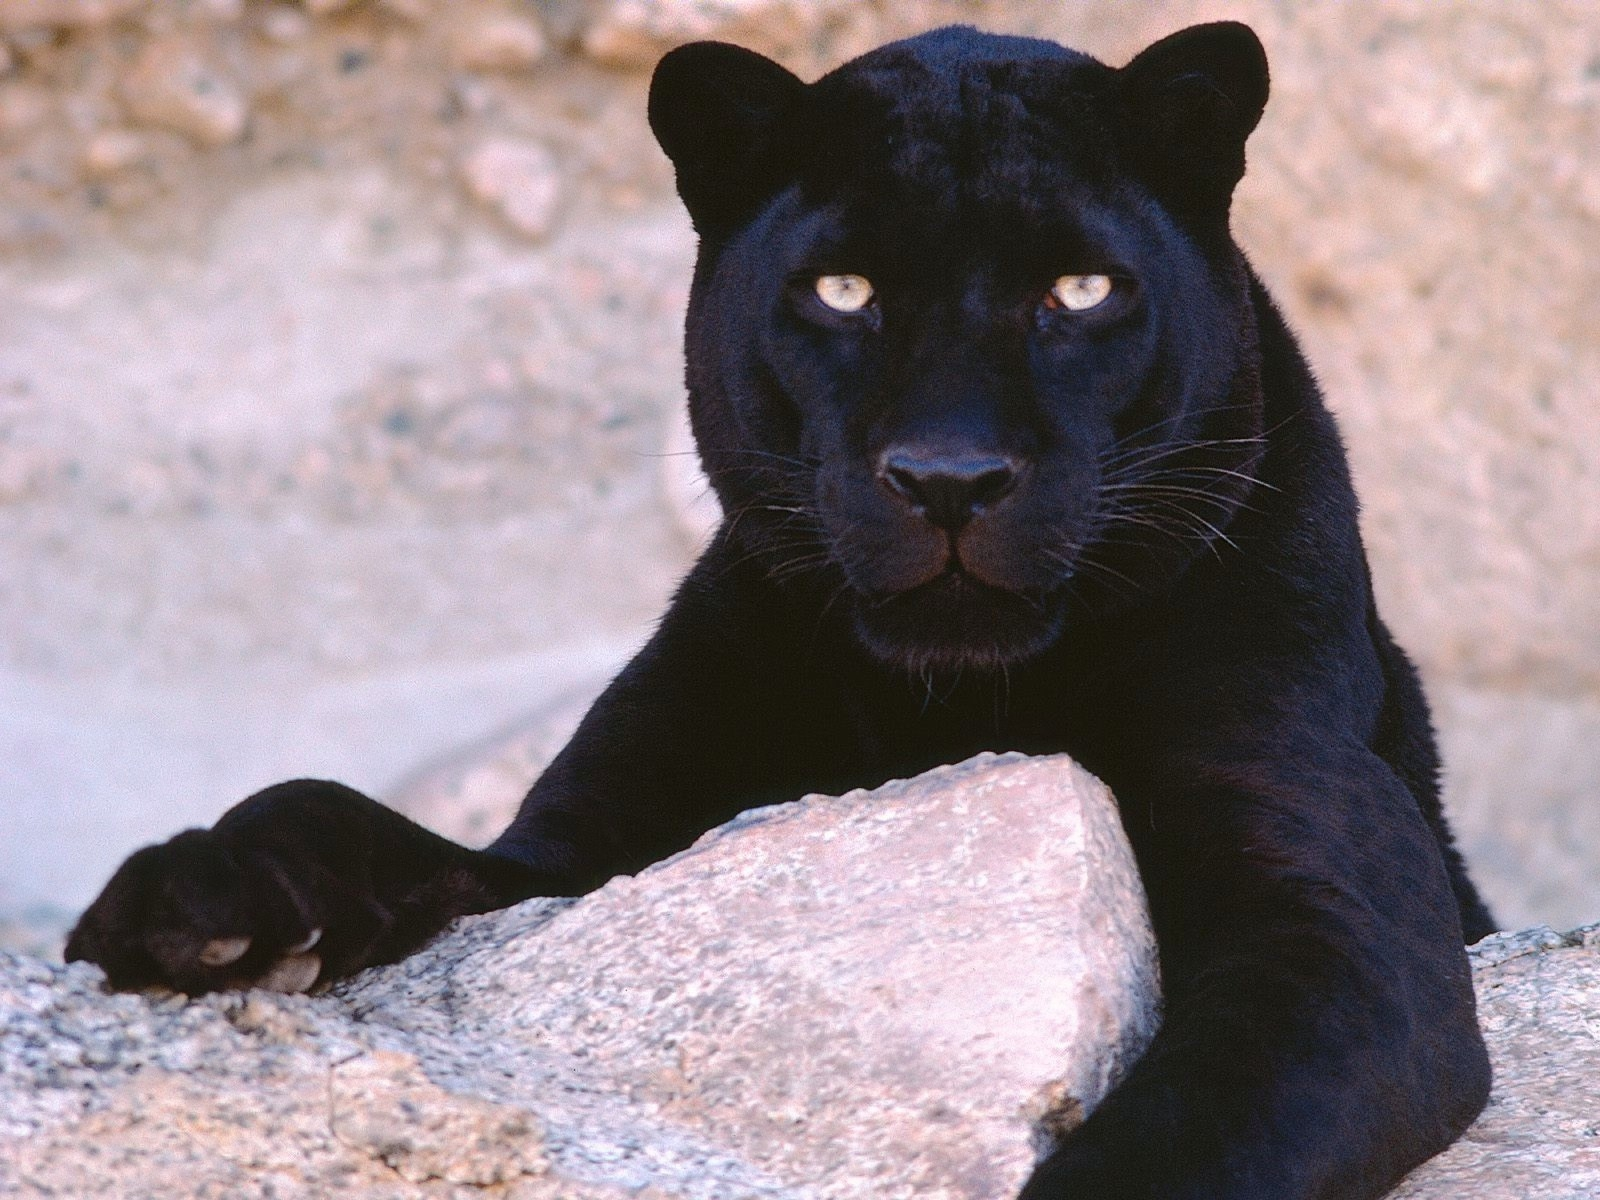panther: (533, 8, 1364, 741)
